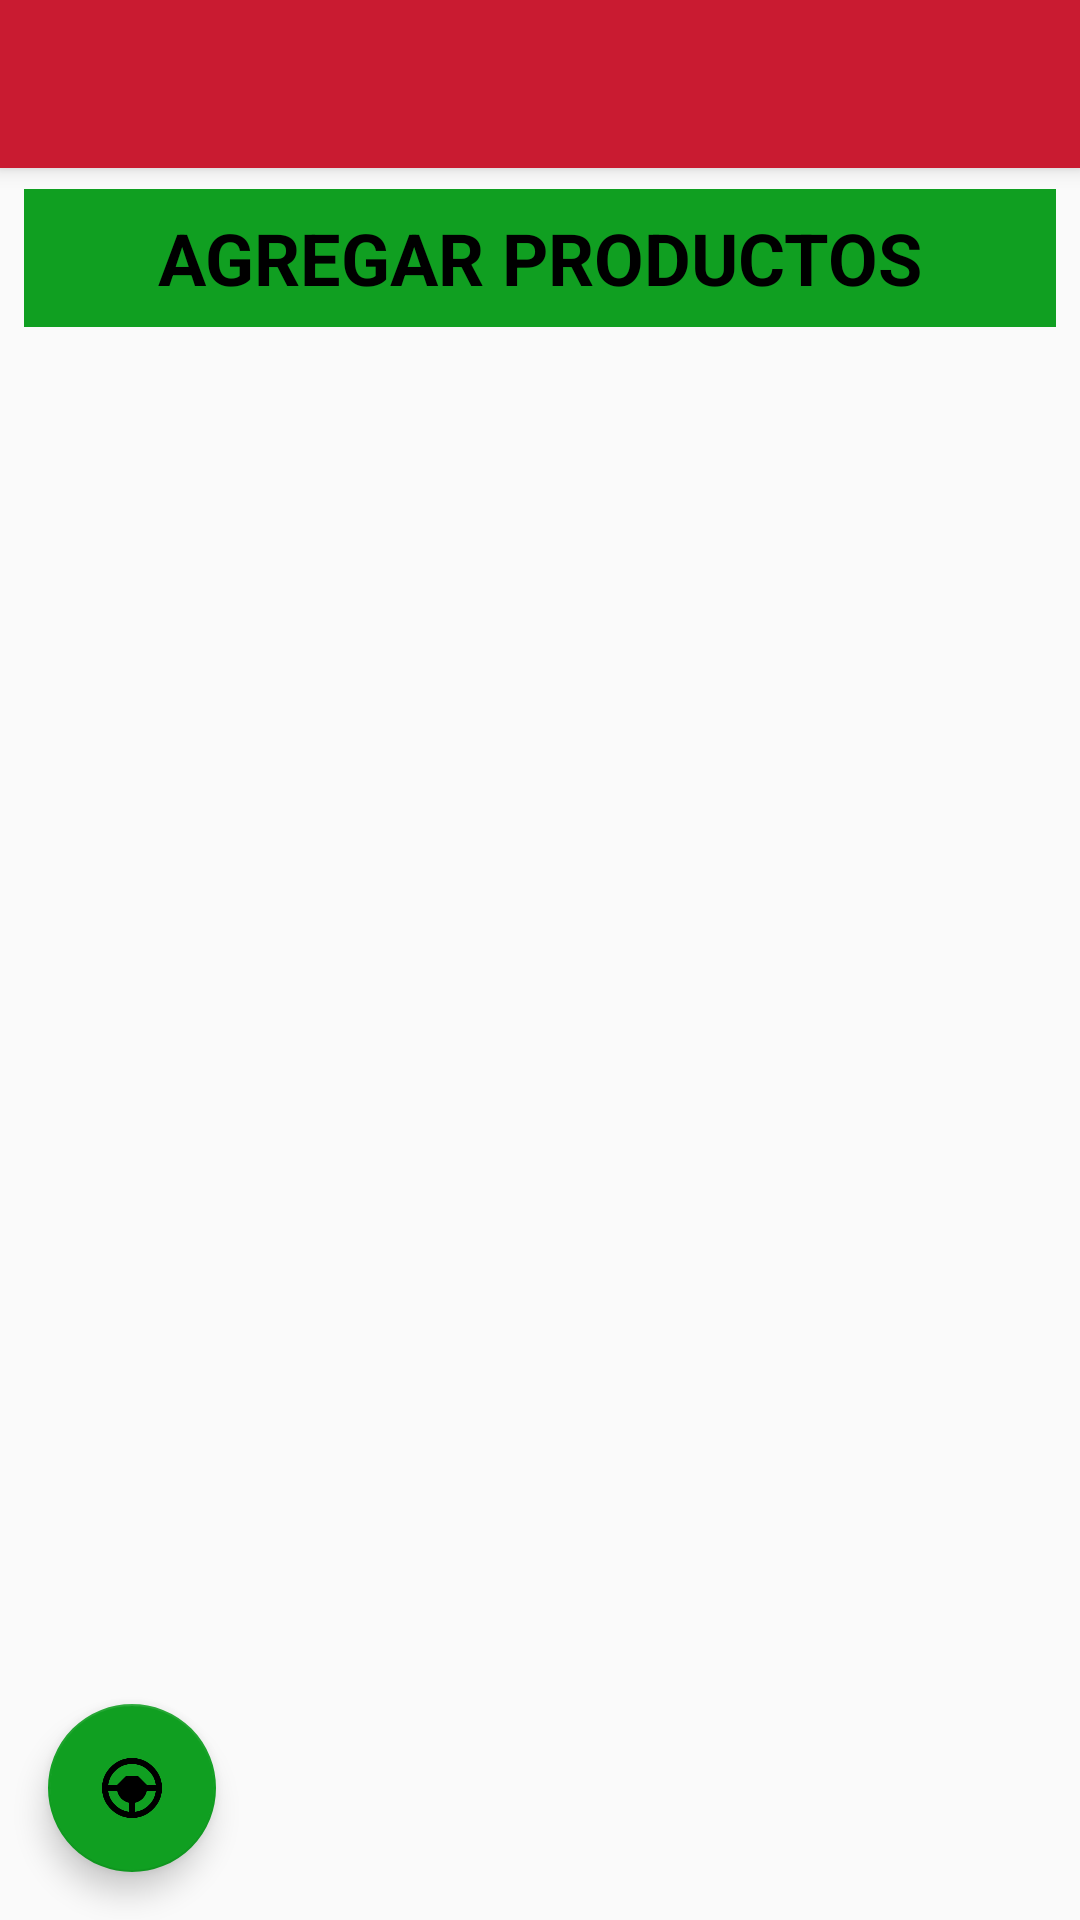

Icon bounding boxes for this 1080*1920 phone screenshot, format [x1=x1, y1=y1, x2=x2, y2=y2]:
steering: [x1=48, y1=1704, x2=216, y2=1872]
